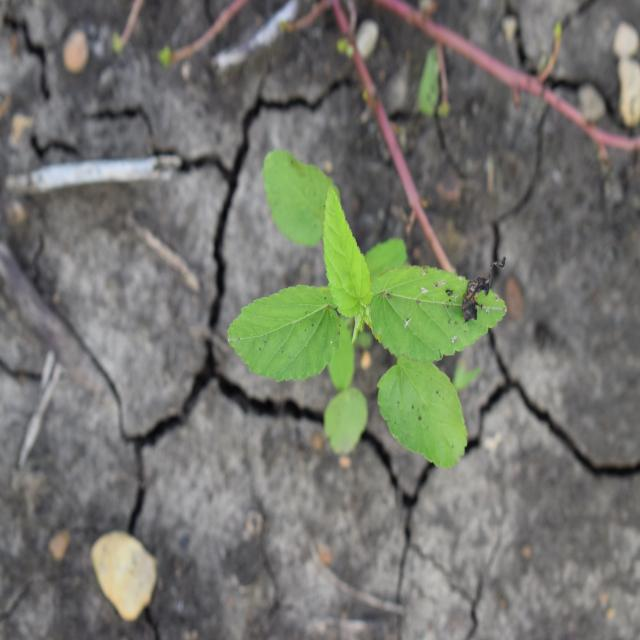PricklySida: (225, 146, 509, 474)
